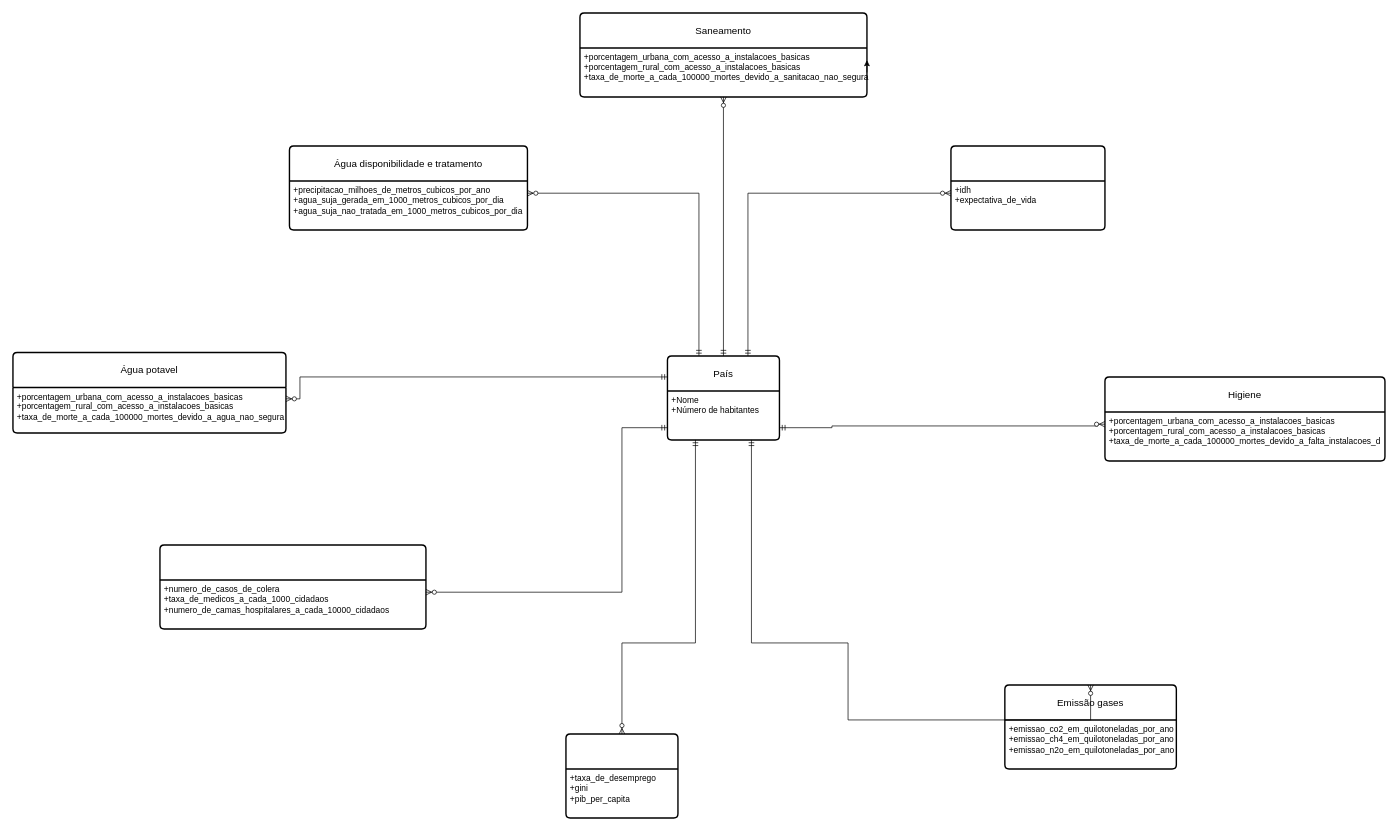
Some shapes in this 1397 by 830 pixel diagram are drawn without their labels. The box of each missing label's shape, as (x1, y1, x2, y2) in pixels:
Desenvolvimento da área da saude: (159, 544, 426, 629)
Economia: (565, 733, 678, 818)
Qualidade de vida: (950, 145, 1105, 230)
